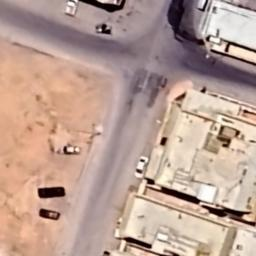pickup: (66, 0, 78, 16)
sedan: (37, 186, 66, 198), (134, 156, 148, 180), (39, 208, 61, 220)
truck: (64, 146, 80, 154)
